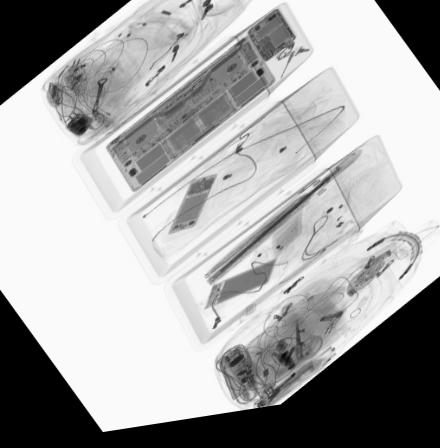Knife: (293, 327, 302, 364)
